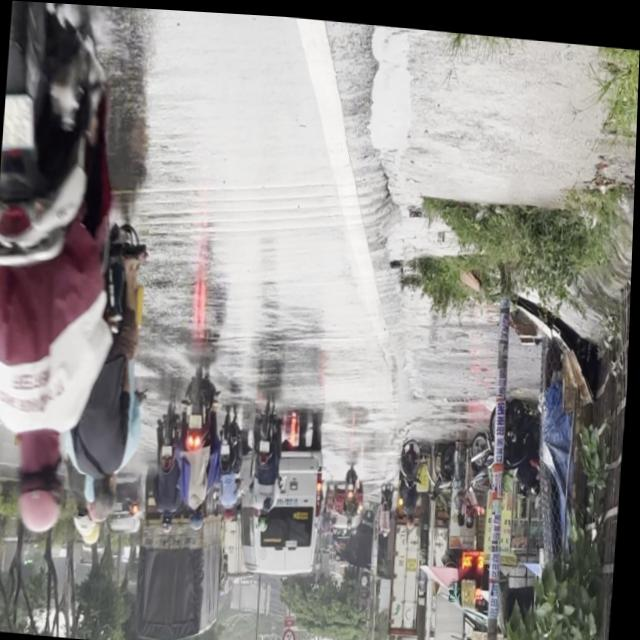helmet: (12, 434, 69, 536), (76, 495, 100, 535)
licenseplate: (0, 0, 136, 546), (62, 199, 159, 537)
motorcyclist: (92, 472, 120, 520)
nohelmet: (1, 95, 35, 152)
